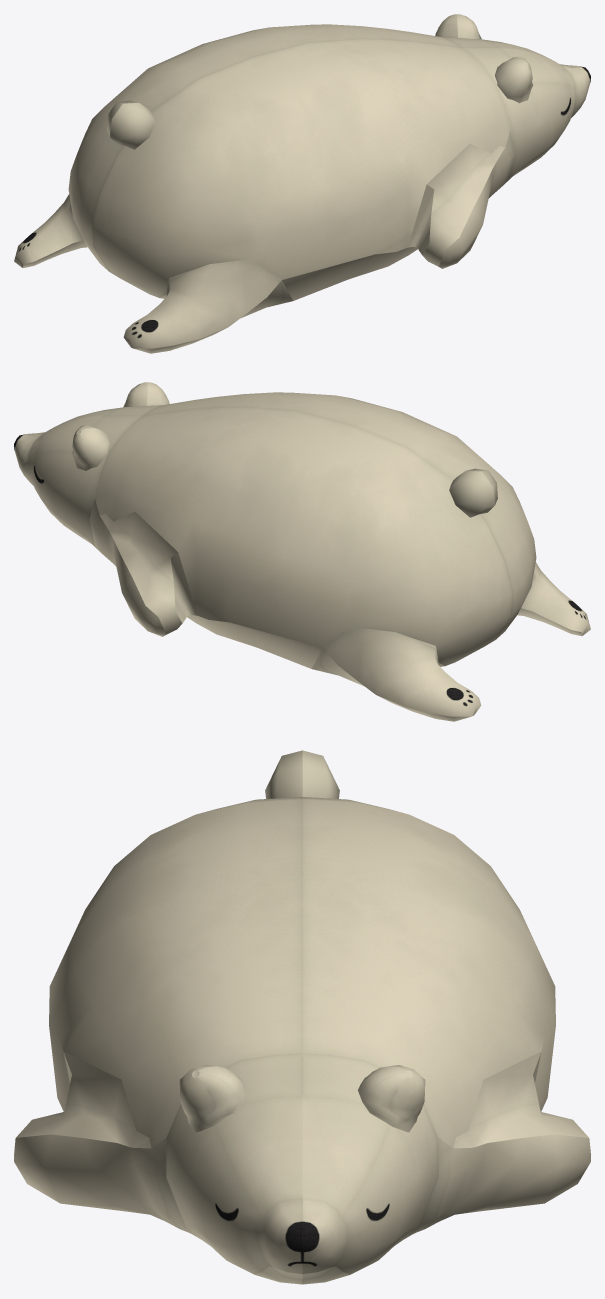
File: white_polar_bear_plushie_floof_toy.glb
The picture shows the model from 3 angles, top to bottom: view 1: azimuth 30°, elevation 25°; view 2: azimuth 150°, elevation 25°; view 3: azimuth 270°, elevation 25°; orthographic projection. The views are drawn at different scales.
Parts seen in each view (by area): view 1: Object_2; view 2: Object_2; view 3: Object_2.
Part boxes in pixels (bbox=[...]): Object_2: bbox=[14, 14, 590, 353]; Object_2: bbox=[14, 382, 590, 721]; Object_2: bbox=[14, 750, 590, 1284].
Bounding box in the file's own units: 4.12 × 1.66 × 2.54.
Materials: 1 (1 with a texture image).
